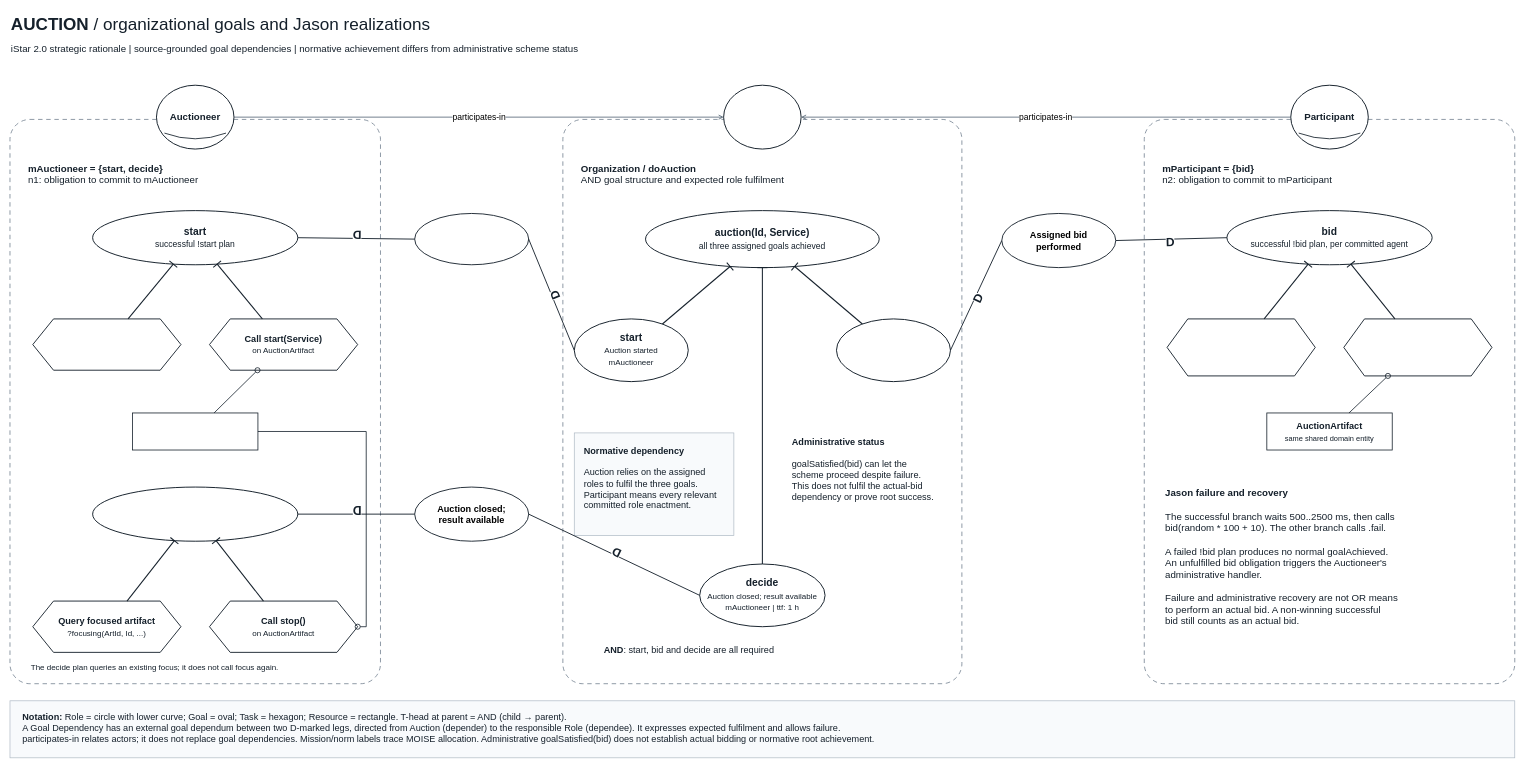
This 1525x768 diagram has some shape labels left out. The box of each missing label's shape, as (x1, y1, x2, y2) in pixels:
Auction: (723, 84, 801, 149)
Auction started: (414, 213, 529, 265)
AuctionArtifact shared domain entity: (132, 412, 258, 450)
bid committed bids performed mParticipant | ttf: 10 s: (836, 318, 951, 382)
Create & focus artifact makeArtifact(...); focus(ArtId): (32, 318, 181, 370)
decide successful !decide plan: (92, 486, 298, 541)
Find & focus artifact lookupArtifact(Id, AId); focus(AId): (1166, 318, 1315, 376)
Wait, then bid(amount) successful branch: random < 0.9: (1343, 318, 1492, 376)
